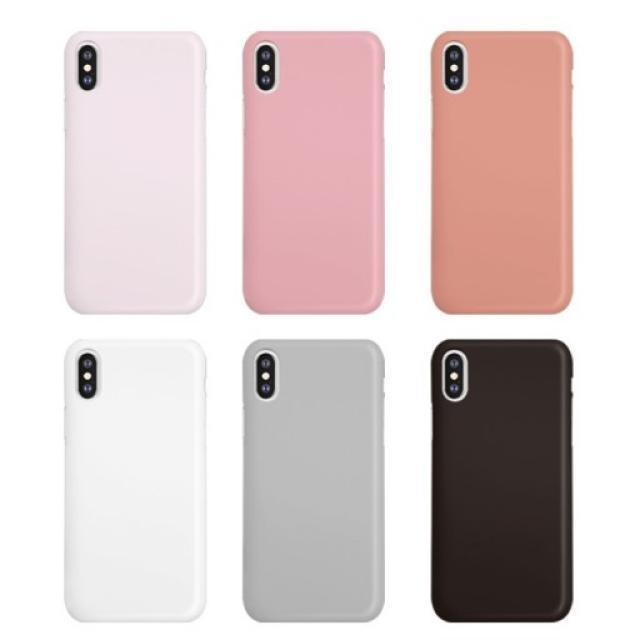phone: (64, 335, 209, 624), (63, 29, 208, 317), (430, 337, 576, 622), (242, 338, 386, 624), (430, 29, 575, 313), (242, 30, 384, 313)
